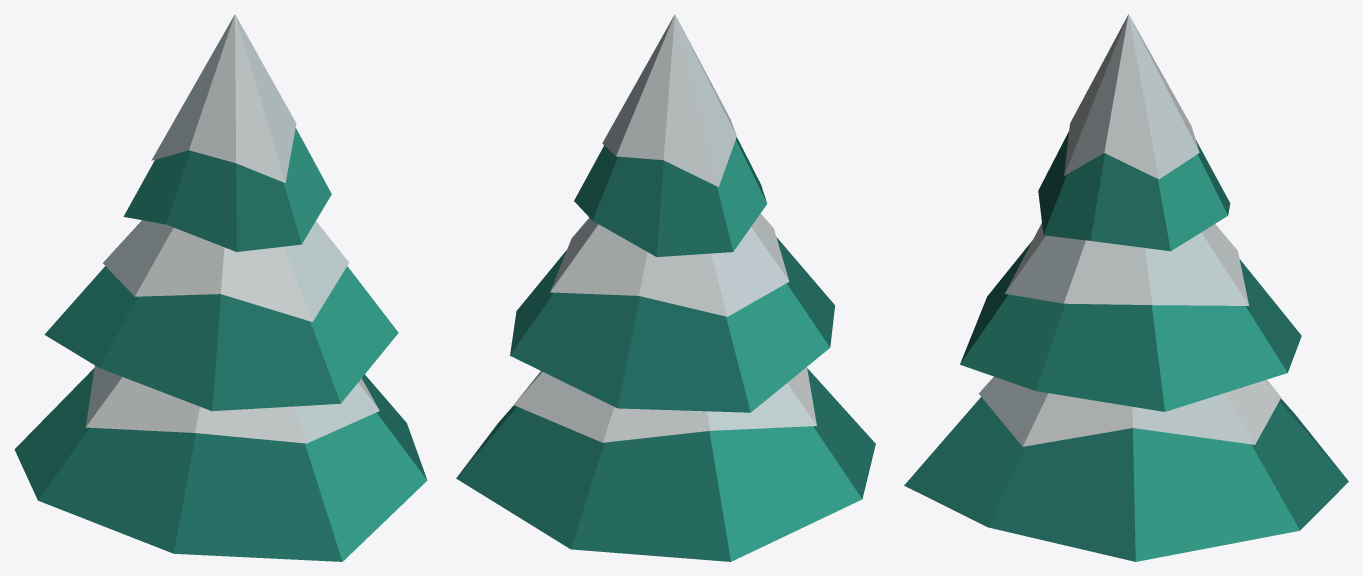
Rendered from fir-c.glb.
The picture shows the model from 3 angles, left to right: view 1: azimuth 30°, elevation 25°; view 2: azimuth 150°, elevation 25°; view 3: azimuth 270°, elevation 25°; orthographic projection. The views are drawn at different scales.
Visible parts, largest first — view 1: foliage; view 2: foliage; view 3: foliage.
Part boxes in pixels (x1,y1,x2,y2): foliage: (14,14,427,561); foliage: (456,14,875,561); foliage: (904,14,1348,561).
Bounding box in the file's own units: 2.4 × 3.26 × 2.47.
